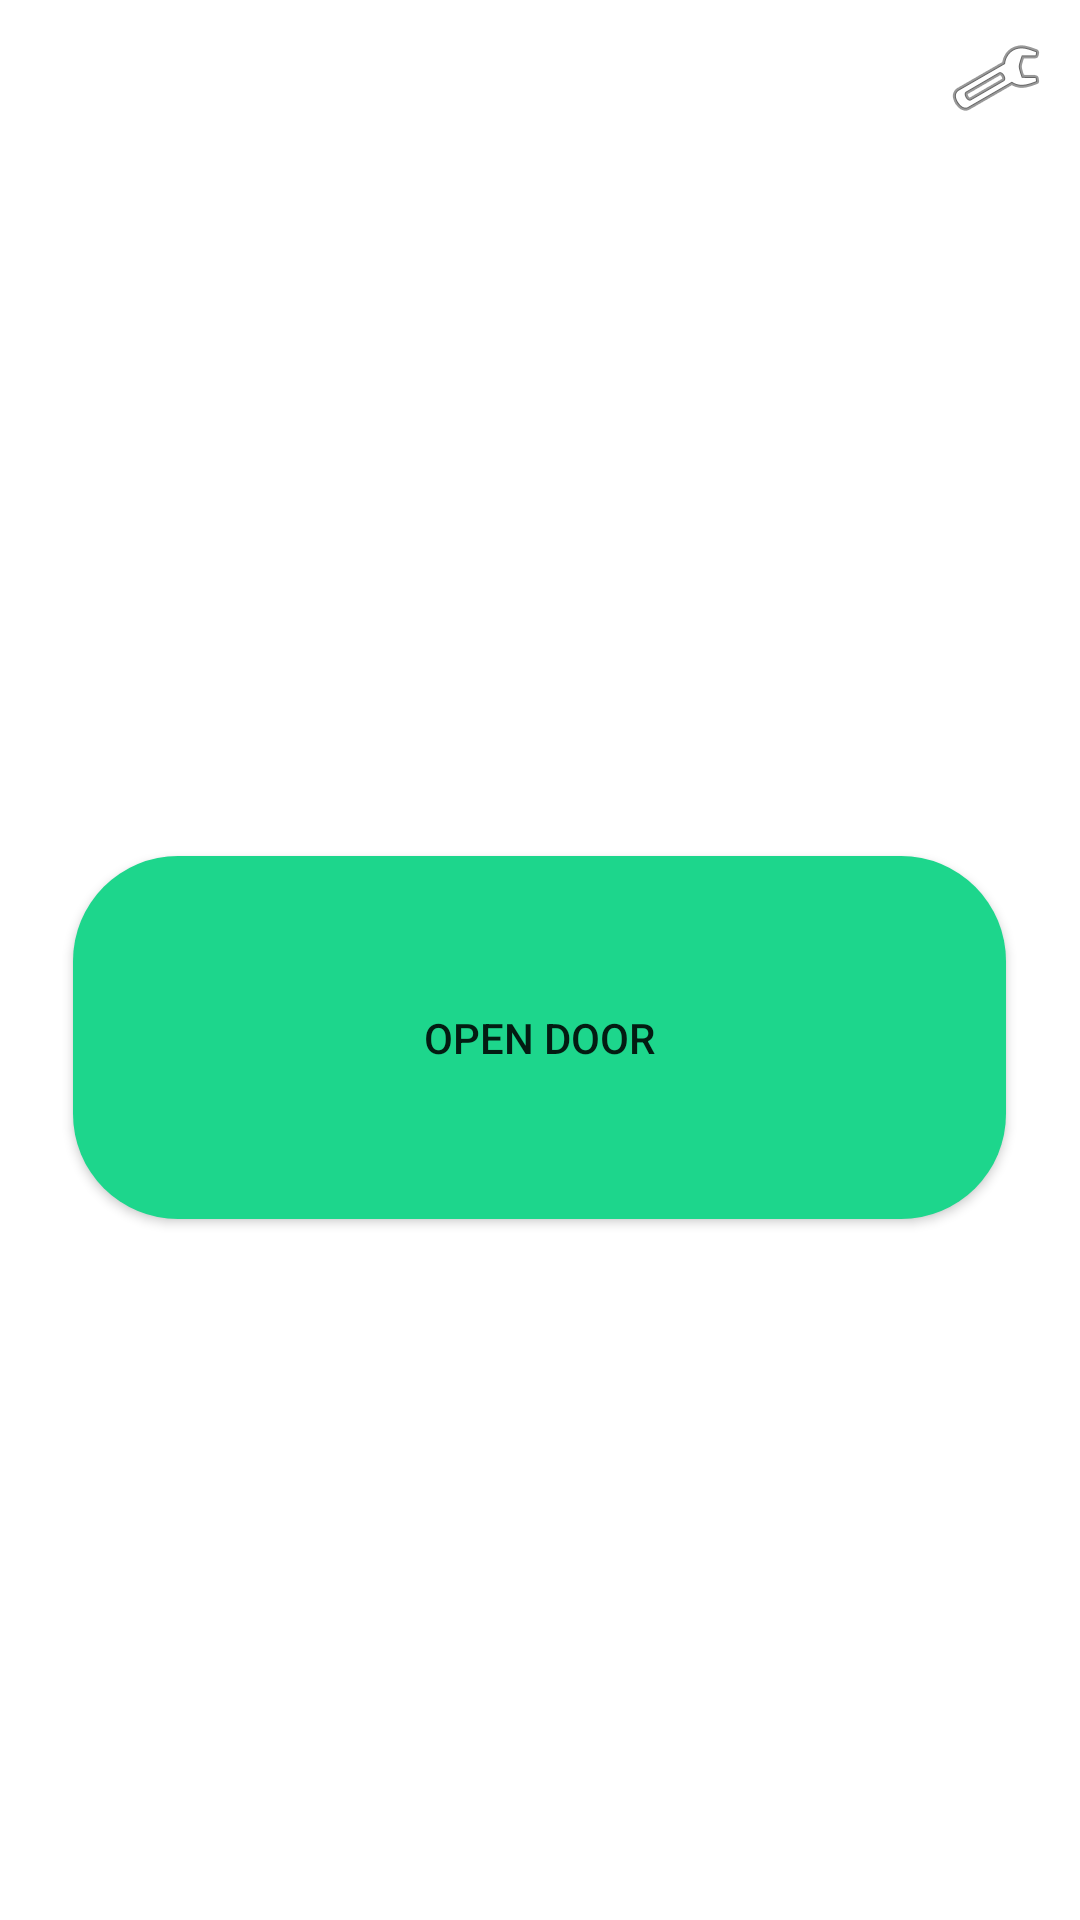

Icons on this 1080×1920 Android screen, each with the point to tap as (x,y):
manage: (996,78)
